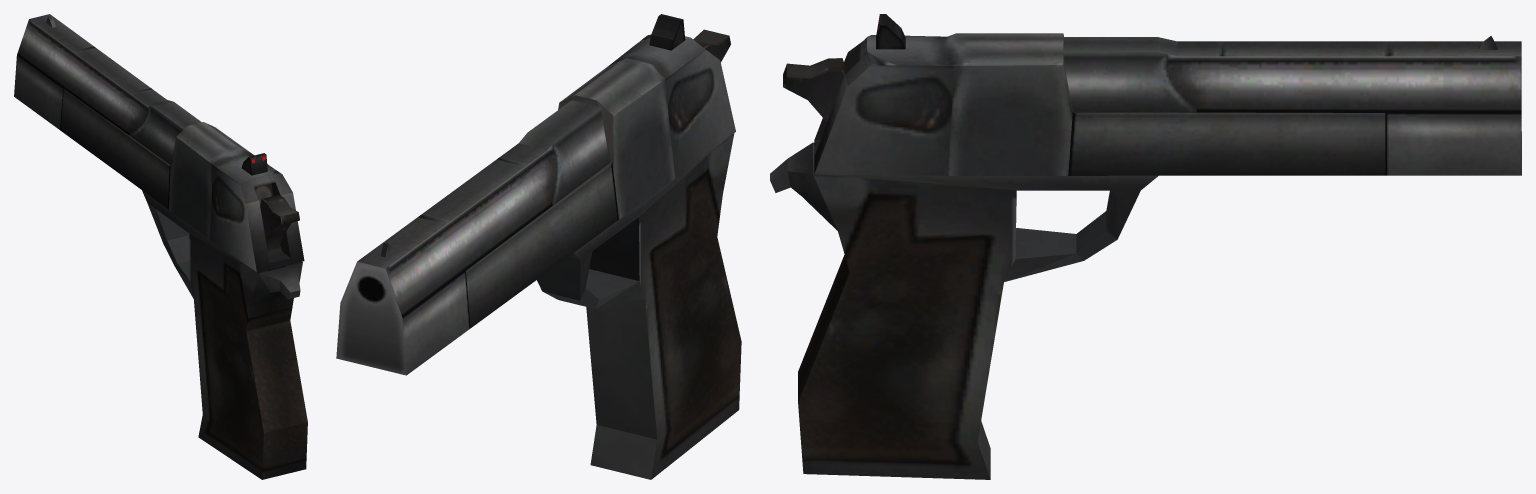
The model's file is desert_eagle.FBX.
The picture shows the model from 3 angles, left to right: view 1: azimuth 30°, elevation 25°; view 2: azimuth 150°, elevation 25°; view 3: azimuth 270°, elevation 25°; orthographic projection. The views are drawn at different scales.
Visible parts, largest first — view 1: desert_eagle; view 2: desert_eagle; view 3: desert_eagle.
Part boxes in pixels (x1=…): desert_eagle: x1=14, y1=14, x2=307, y2=479; desert_eagle: x1=336, y1=14, x2=741, y2=479; desert_eagle: x1=770, y1=14, x2=1521, y2=479.
Bounding box in the file's own units: 2.23 × 12.63 × 19.35.
